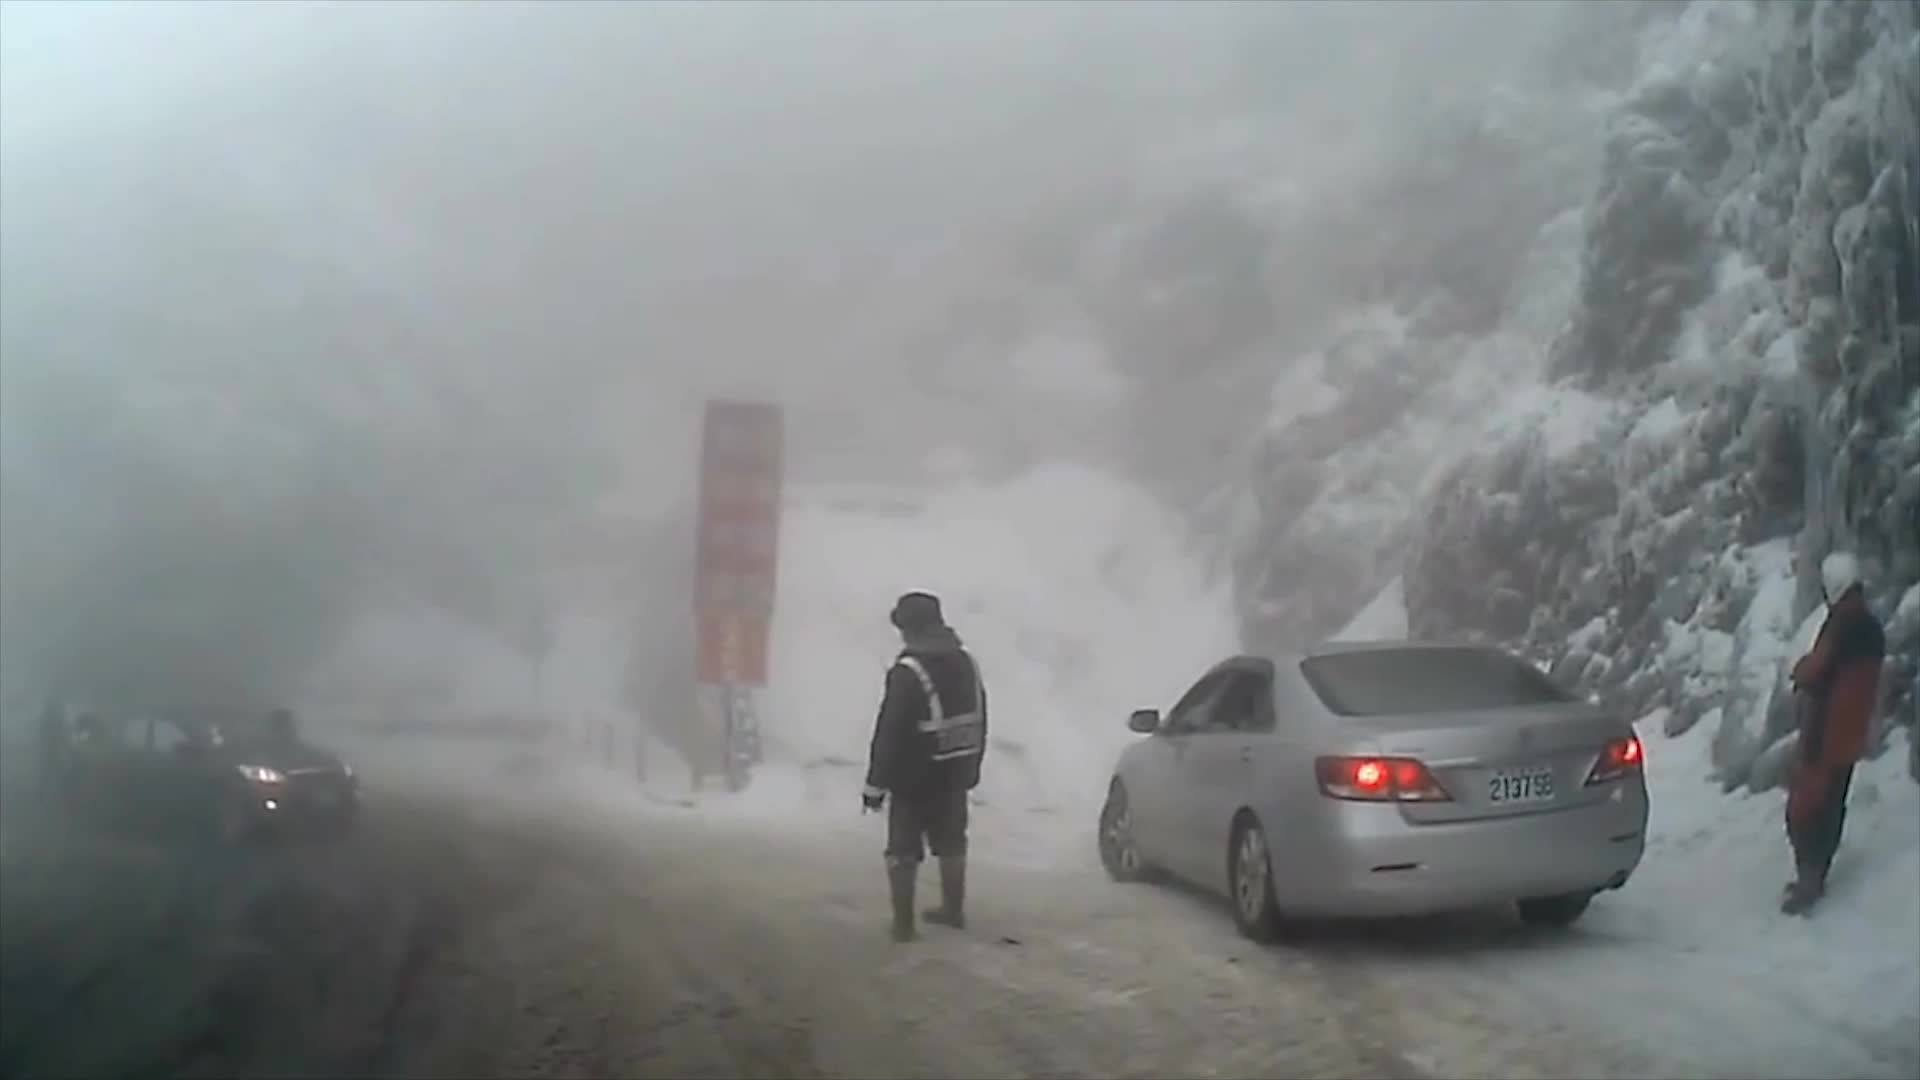pedestrian: (863, 591, 988, 944), (1775, 548, 1891, 918)
vehicle: (1097, 637, 1648, 941), (82, 704, 358, 854)
